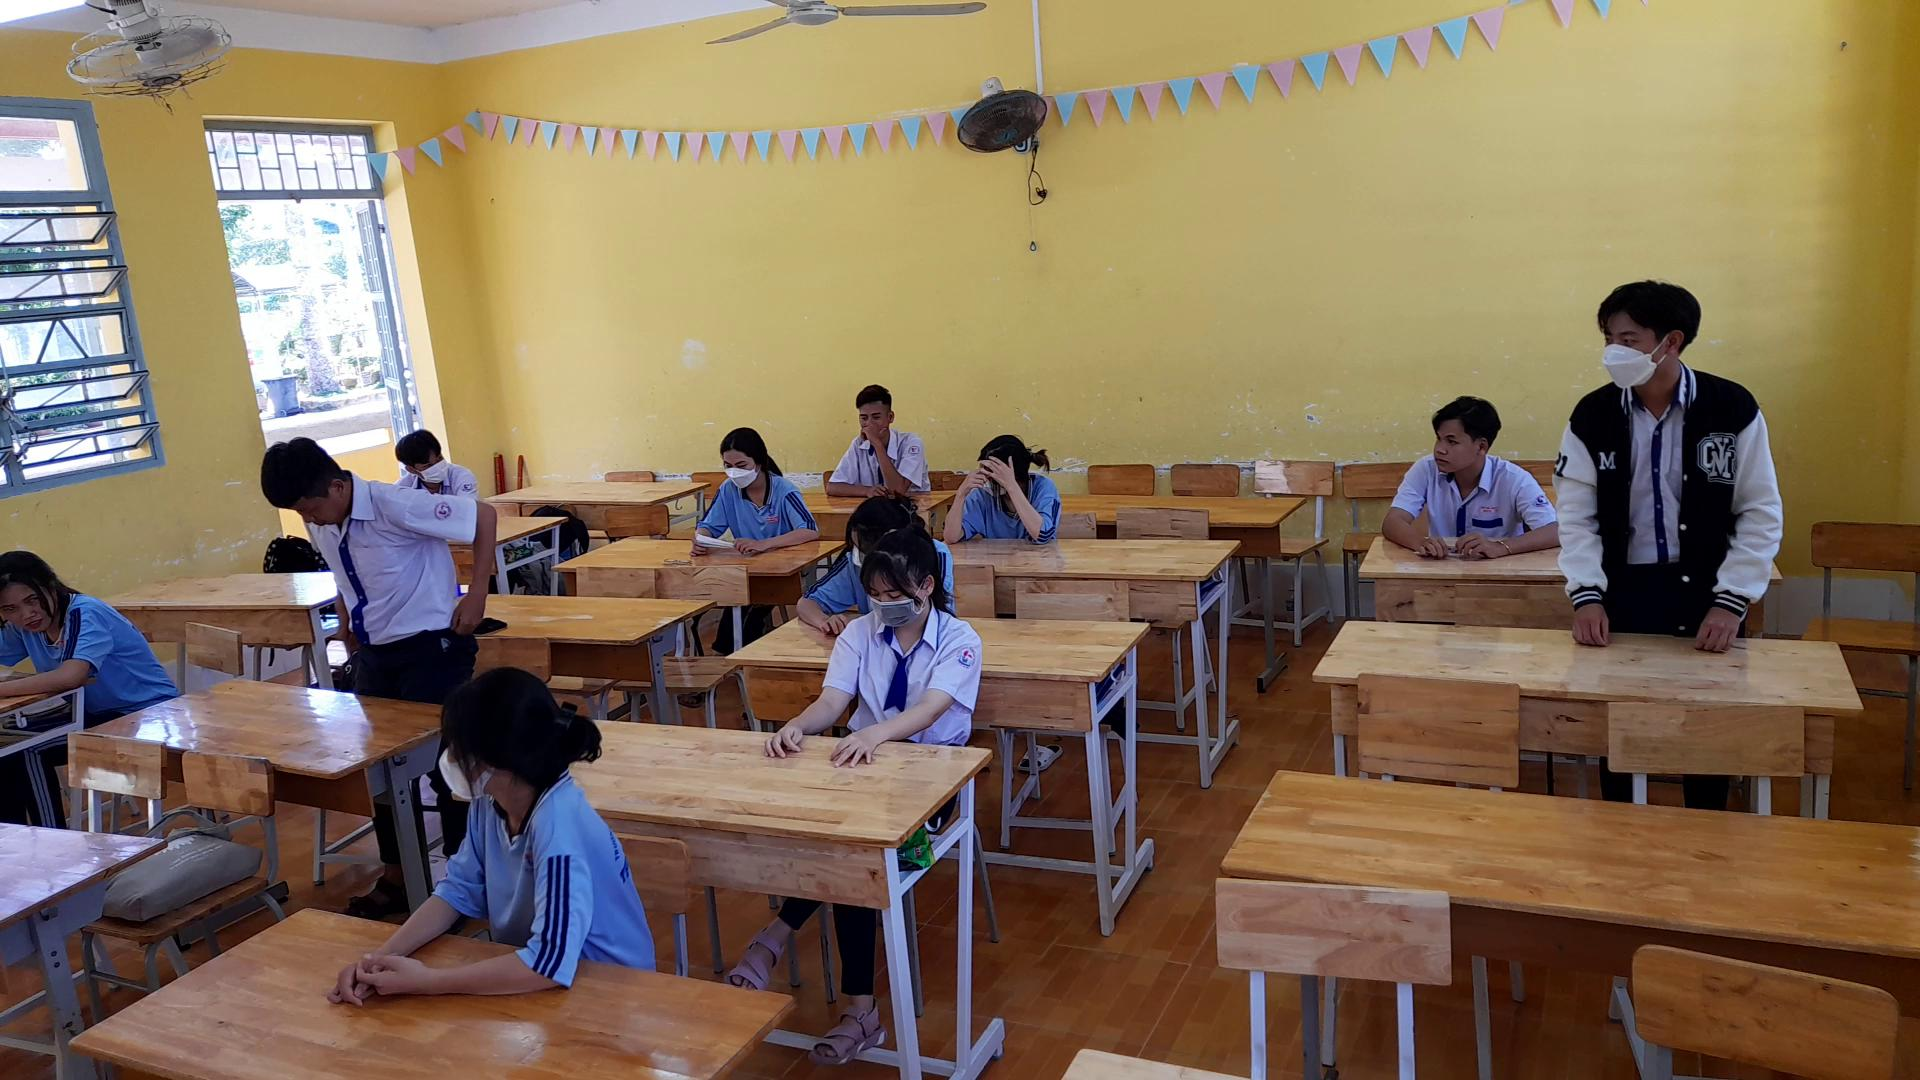Look Around: (430, 655, 593, 804), (1403, 368, 1501, 487)
Normal: (783, 527, 982, 771), (674, 421, 823, 556)
Stand Up: (1534, 274, 1792, 644), (251, 429, 480, 682)
Wave: (990, 459, 1059, 549), (934, 459, 984, 546), (865, 418, 913, 492)
